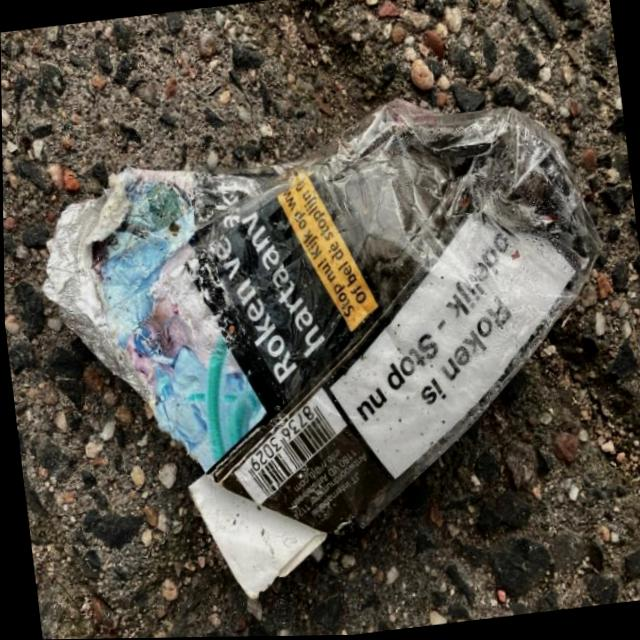Paper: (17, 71, 640, 625)
